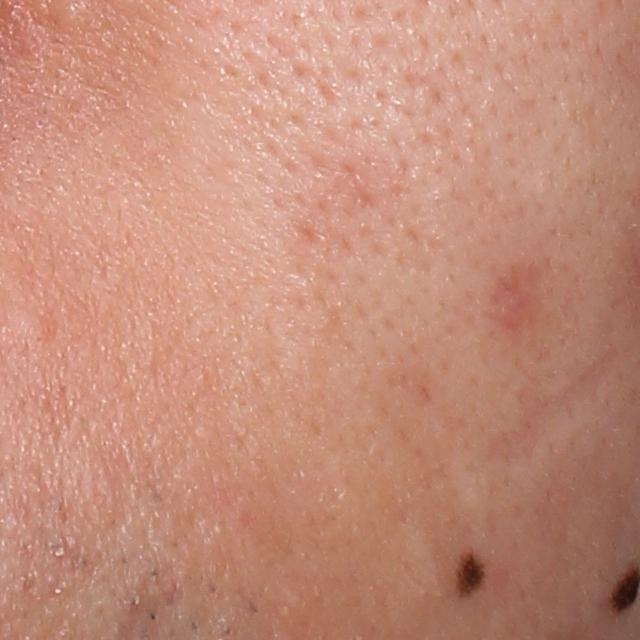atrophic_scar: (472, 349, 639, 484)
nevus: (455, 544, 494, 601)
other: (475, 339, 624, 468)
